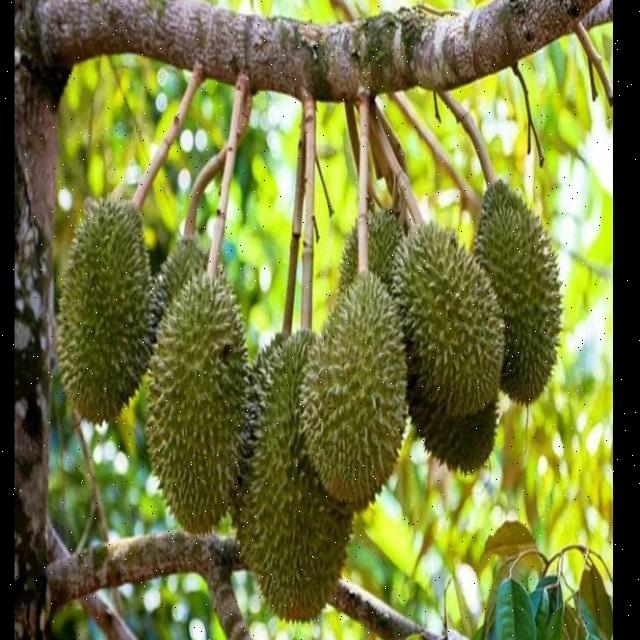UNRIPE: (248, 330, 347, 616), (145, 273, 246, 533), (298, 270, 406, 506), (394, 220, 504, 434), (53, 200, 155, 424), (472, 180, 562, 403)
